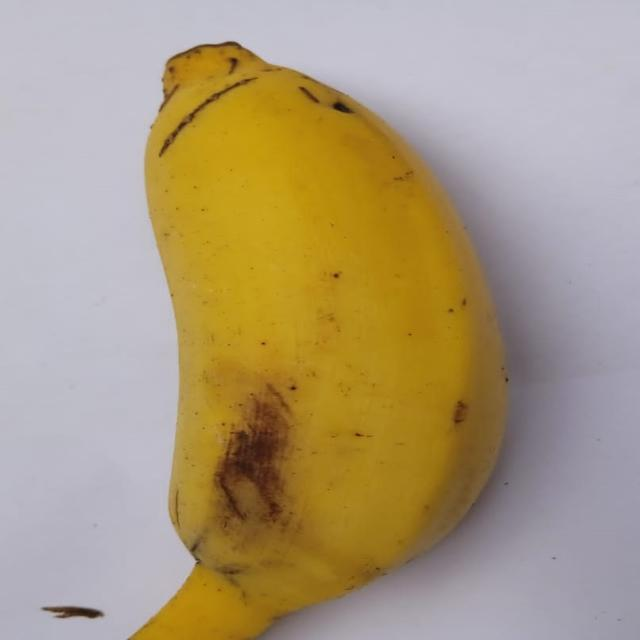banana: (133, 43, 505, 639)
